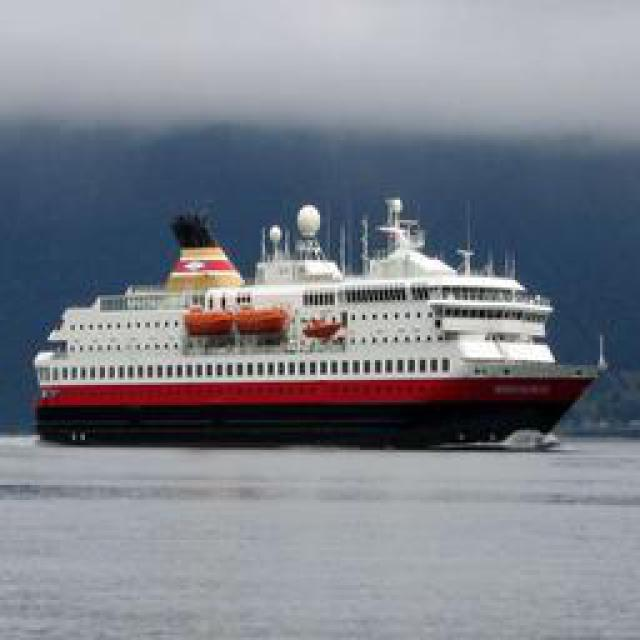Ship: (31, 200, 594, 435)
